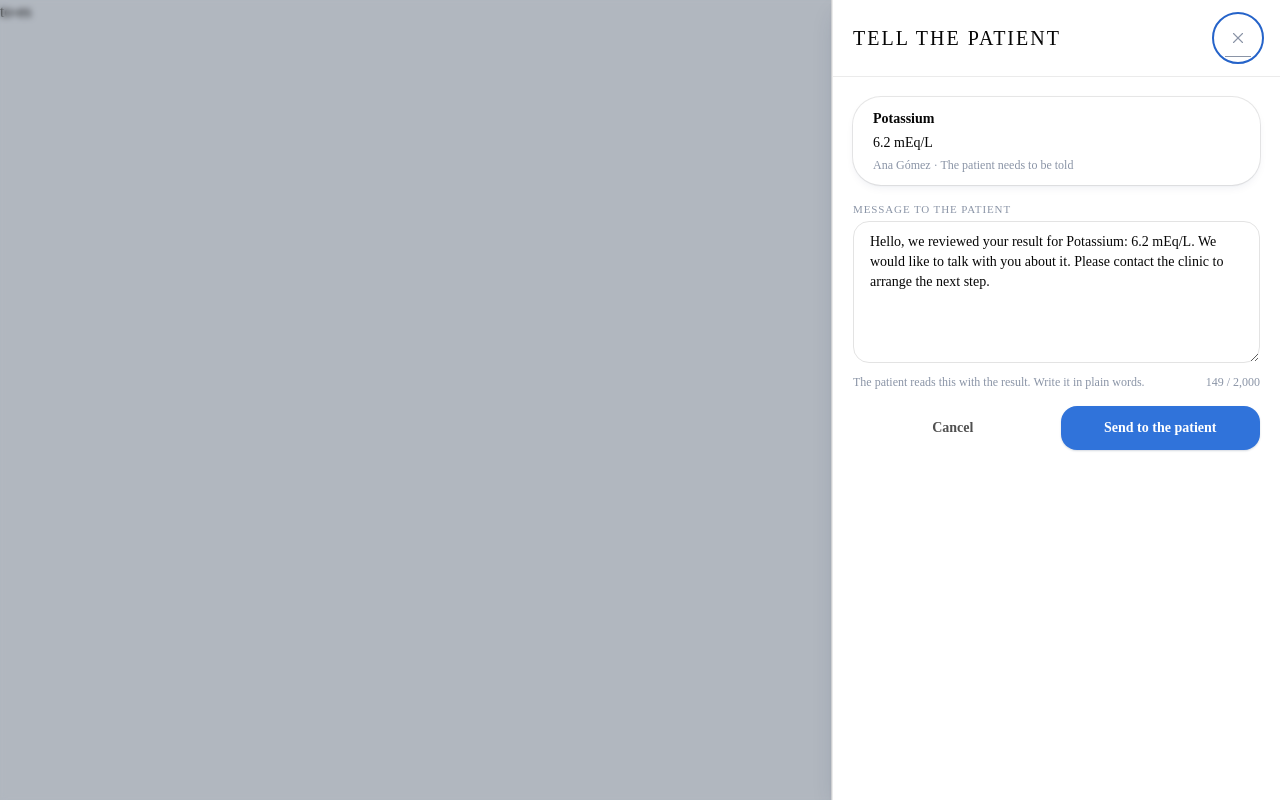
Scenario: InformPatientSheet › explains a conflict and stays open, instead of closing as if it had worked
Step 1. Click the button "Send to the patient" → x=1160, y=428, box left=1060, top=406, right=1260, bottom=450
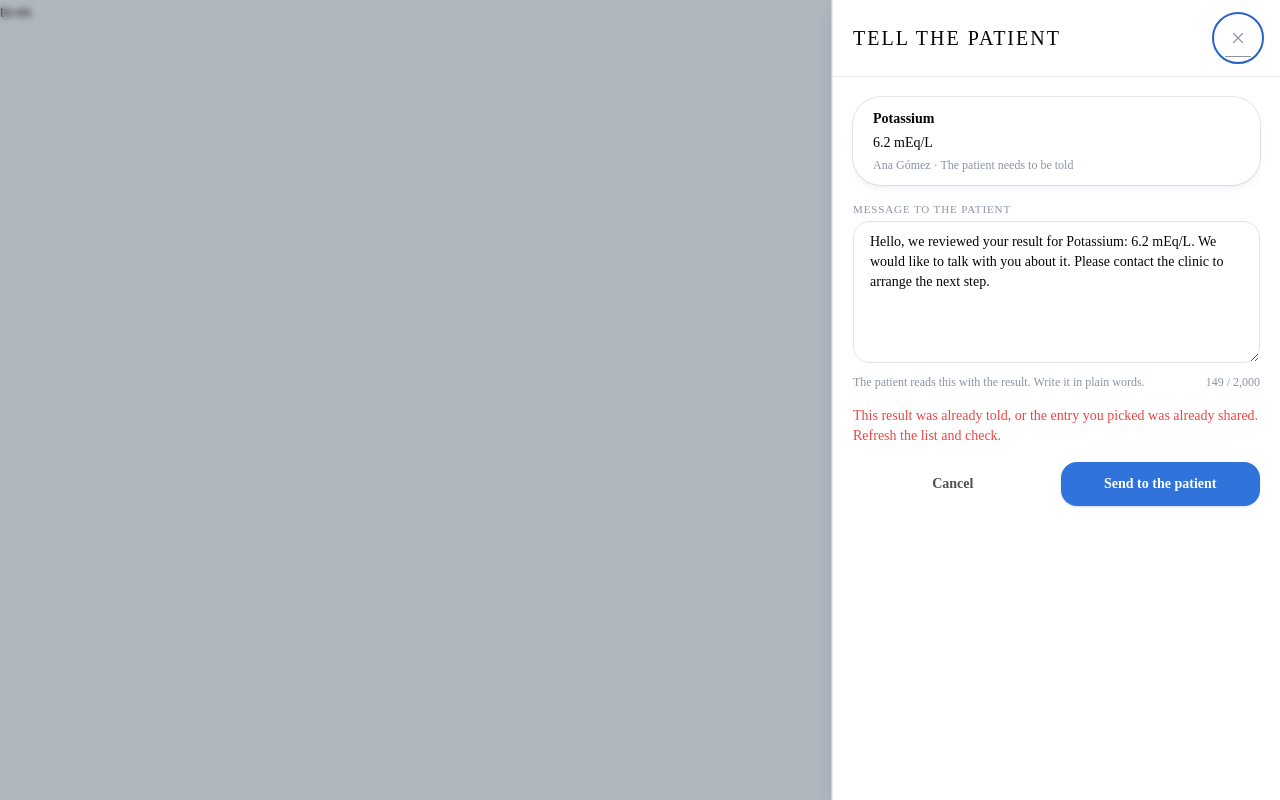
Expected: the button "Send to the patient" is enabled, left=1060, top=462, right=1260, bottom=506
Expected: the message shows "already told", left=853, top=408, right=1258, bottom=443
